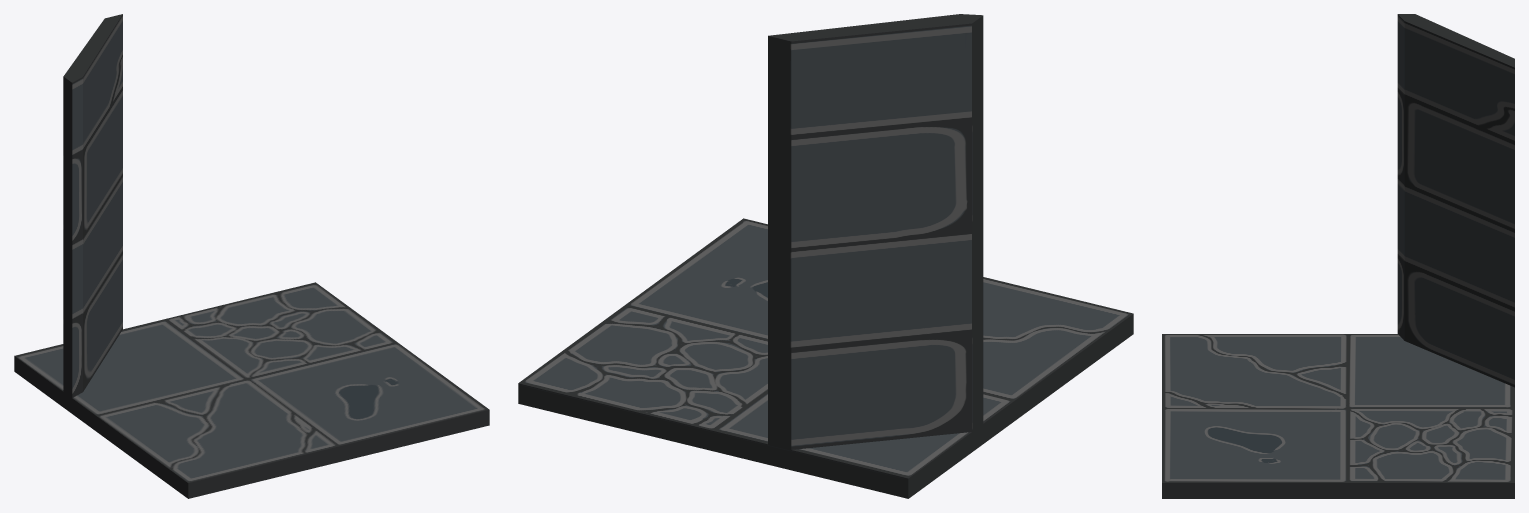
The model's file is Wall-XLCURVE-SEbS_v1.1.fbx.
The picture shows the model from 3 angles, left to right: view 1: azimuth 30°, elevation 25°; view 2: azimuth 150°, elevation 25°; view 3: azimuth 270°, elevation 25°; orthographic projection. The views are drawn at different scales.
Visible parts, largest first — view 1: Tile_Main.015; view 2: Tile_Main.015; view 3: Tile_Main.015.
Boxes of the visible parts, x1,y1,x2,y2 form: Tile_Main.015: [14, 14, 489, 498]; Tile_Main.015: [518, 14, 1133, 498]; Tile_Main.015: [1162, 14, 1514, 498].
Size of the model in its own units: 100 by 100 by 105.
